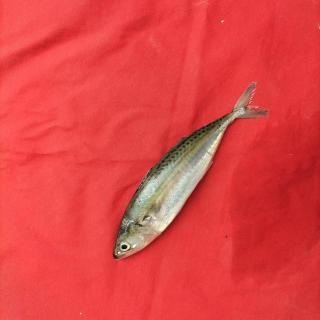Ikan: (102, 79, 274, 267)
